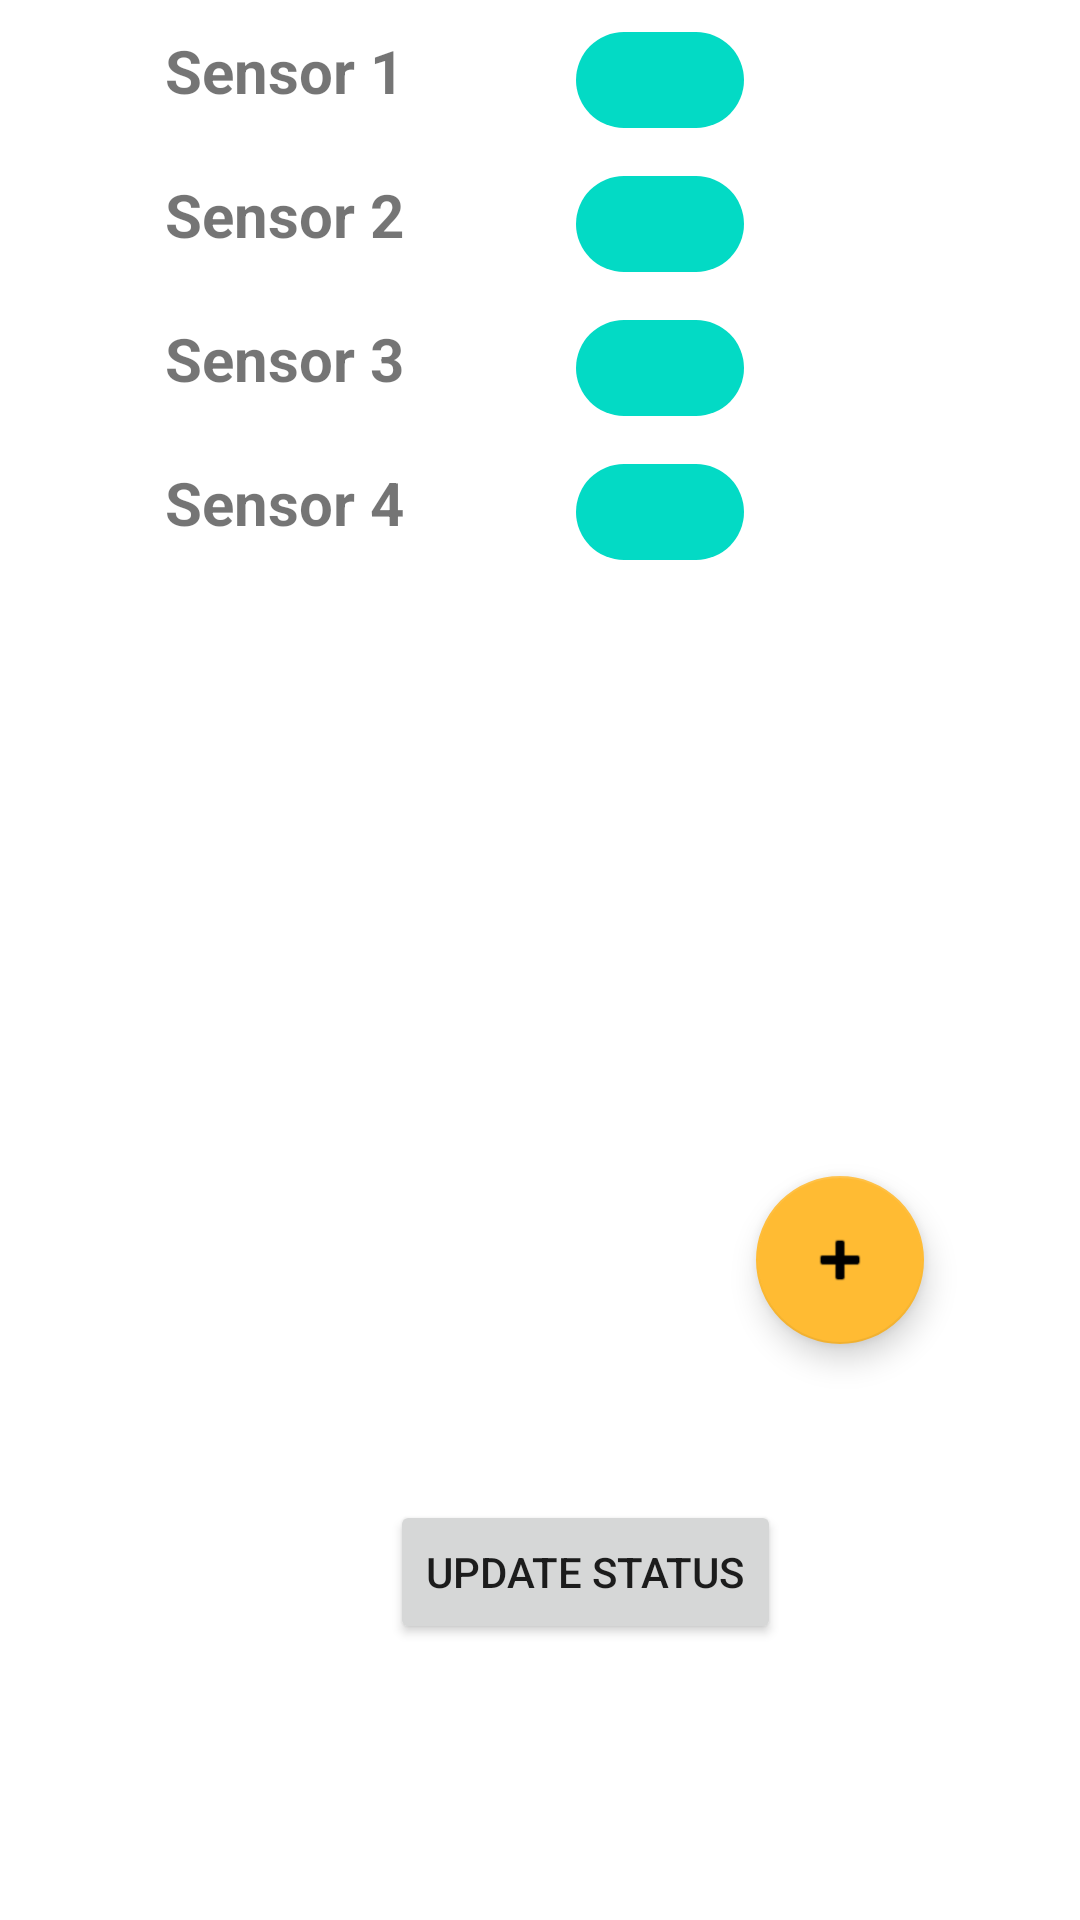

Icon click points for this 1080w x 1920h phone screenshot, format point (x, y):
add: point (840, 1260)
